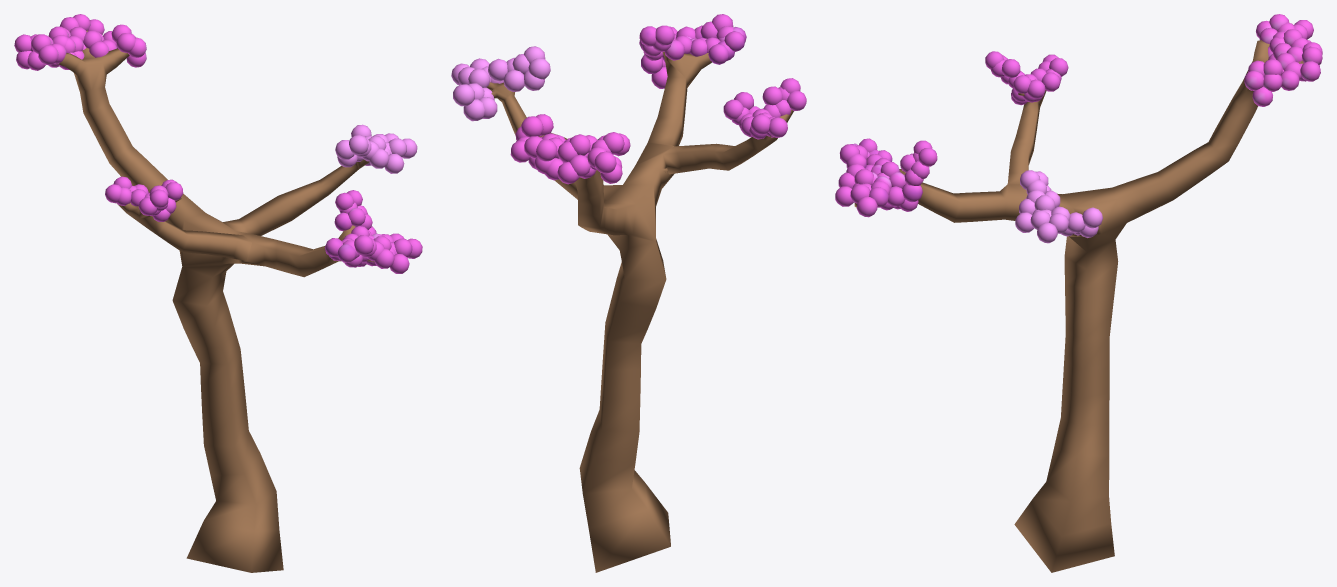
Rendered from tree_2.fbx_Scene.fbx.
The picture shows the model from 3 angles, left to right: view 1: azimuth 30°, elevation 25°; view 2: azimuth 150°, elevation 25°; view 3: azimuth 270°, elevation 25°; orthographic projection. The views are drawn at different scales.
Visible parts, largest first — view 1: Cube, Icosphere, Icosphere.002, Icosphere.001, Icosphere.003; view 2: Cube, Icosphere, Icosphere.002, Icosphere.001, Icosphere.003; view 3: Cube, Icosphere.002, Icosphere, Icosphere.001, Icosphere.003.
Part boxes in pixels (left/top/right/bottom): Cube: left=56, top=30, right=374, bottom=572; Icosphere: left=14, top=14, right=146, bottom=70; Icosphere.002: left=325, top=190, right=422, bottom=273; Icosphere.001: left=335, top=124, right=417, bottom=173; Icosphere.003: left=105, top=176, right=183, bottom=221; Cube: left=487, top=52, right=793, bottom=572; Icosphere: left=510, top=114, right=630, bottom=184; Icosphere.002: left=639, top=14, right=746, bottom=88; Icosphere.001: left=451, top=46, right=550, bottom=121; Icosphere.003: left=723, top=78, right=806, bottom=139; Cube: left=854, top=40, right=1303, bottom=572; Icosphere.002: left=835, top=138, right=937, bottom=217; Icosphere: left=1244, top=14, right=1322, bottom=106; Icosphere.001: left=1015, top=170, right=1102, bottom=243; Icosphere.003: left=985, top=51, right=1068, bottom=105.
Bounding box in the file's own units: 389 × 586 × 525.
